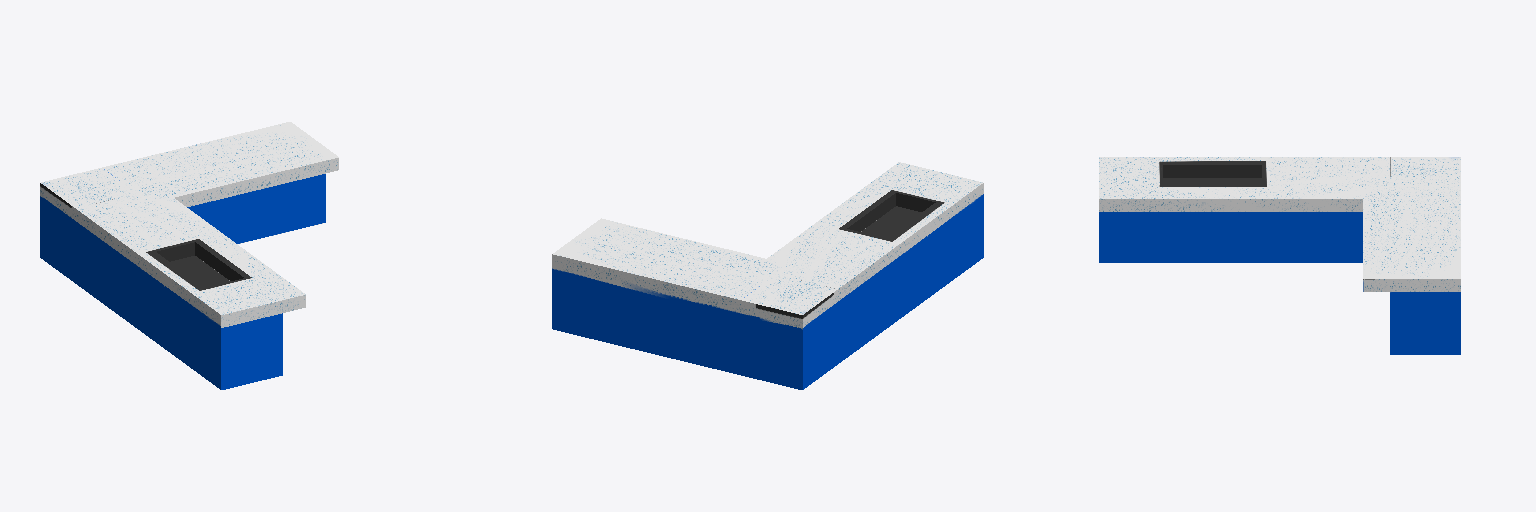
3 renders of one model, left to right at view 1: azimuth 30°, elevation 25°; view 2: azimuth 150°, elevation 25°; view 3: azimuth 270°, elevation 25°, orthographic.
Parts seen in each view (by area): view 1: KitchCounter1; view 2: KitchCounter1; view 3: KitchCounter1.
Part boxes in pixels (left/top/right/bottom): KitchCounter1: left=40, top=122, right=338, bottom=389; KitchCounter1: left=552, top=162, right=983, bottom=389; KitchCounter1: left=1099, top=157, right=1460, bottom=354.
Bounding box in the file's own units: 10.09 × 2.9 × 12.66.
1 materials, 1 textured.